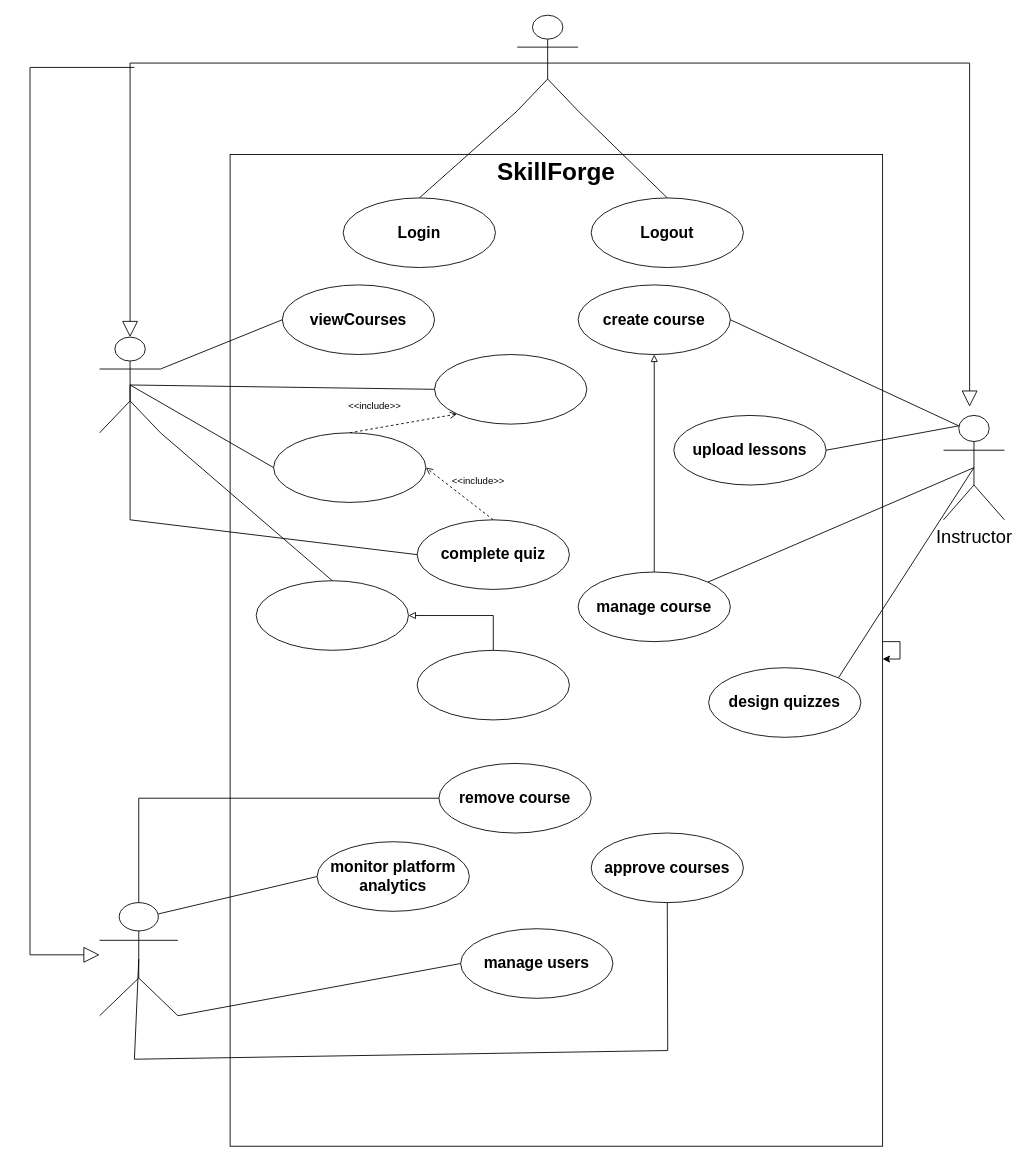
Image size: 1027x1161. Some labels were removed from this diagram. The box of each missing label's shape, as (x1, y1, x2, y2) in pixels:
Admin: (99, 902, 178, 1016)
complete Lesson: (273, 432, 426, 502)
earn certeficate: (416, 649, 569, 720)
enrollCourse: (434, 354, 587, 424)
Student: (99, 336, 161, 433)
user: (516, 14, 578, 111)
view progress: (255, 580, 408, 650)
